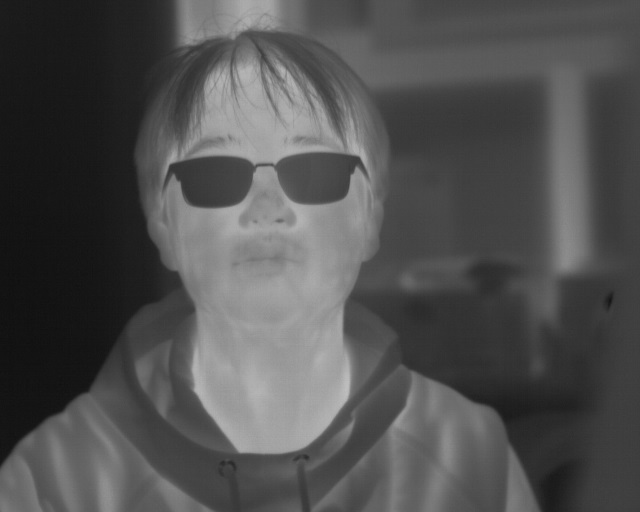face: (130, 24, 392, 332)
